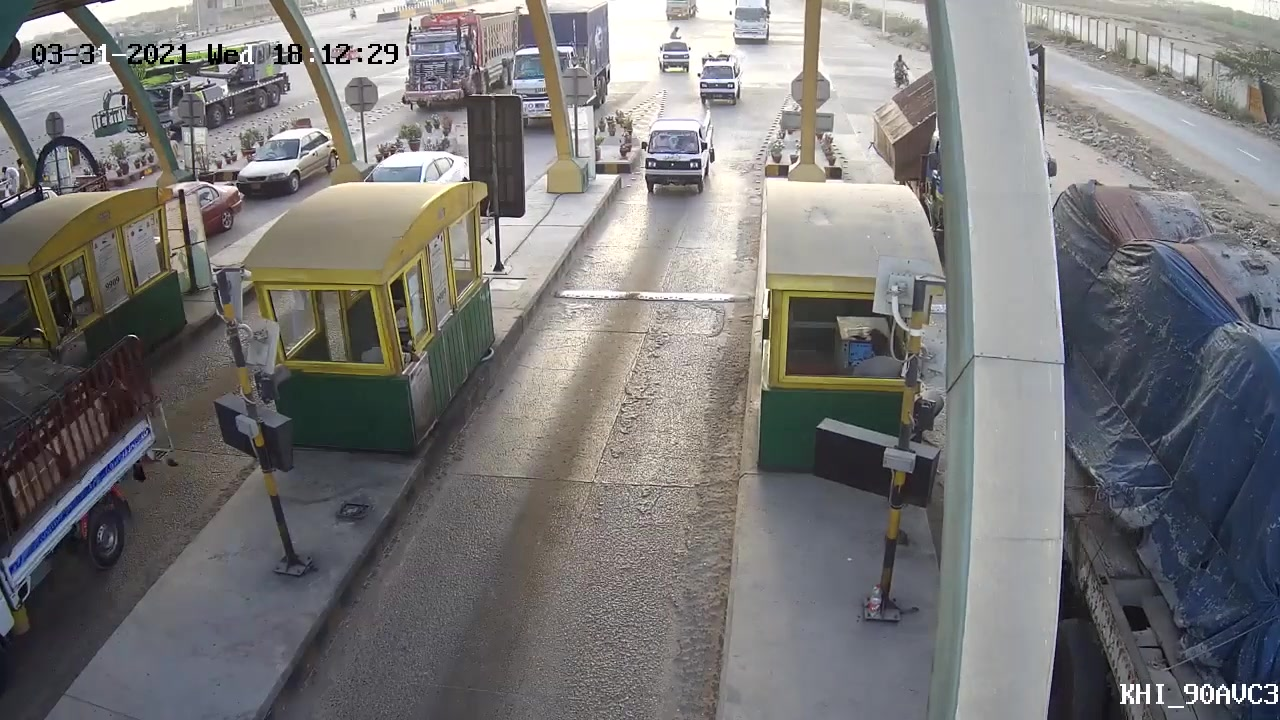F1: (623, 110, 719, 205)
